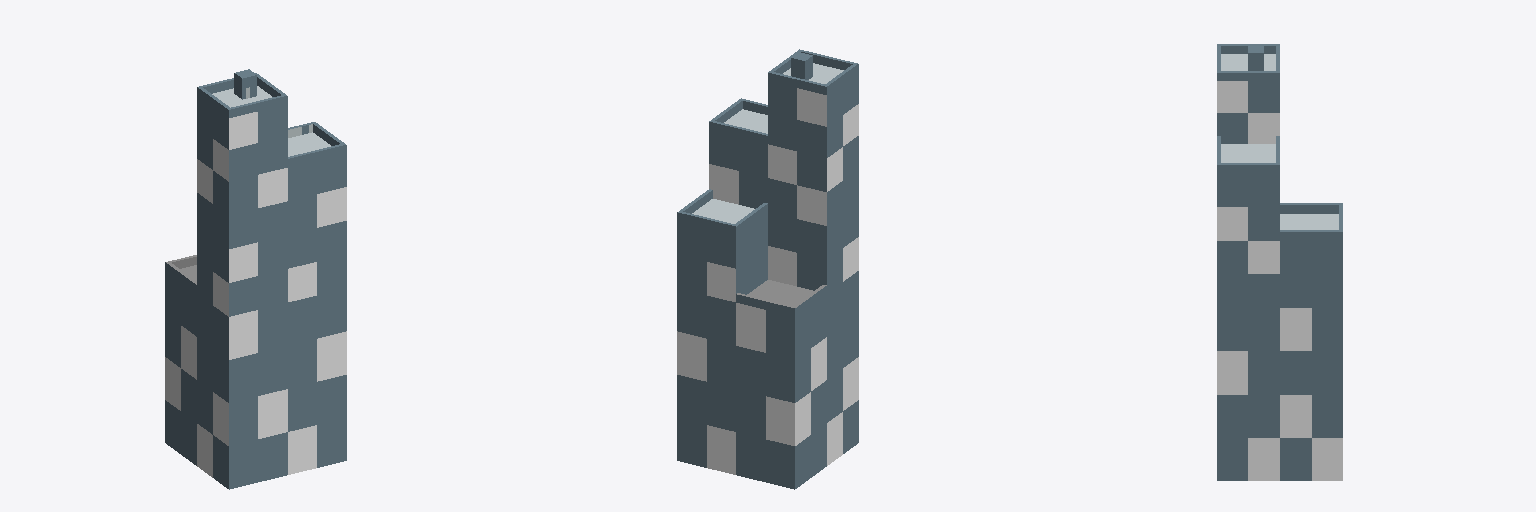
The model's file is model-triangulated.obj.
3 renders of one model, left to right at view 1: azimuth 30°, elevation 25°; view 2: azimuth 150°, elevation 25°; view 3: azimuth 270°, elevation 25°, orthographic.
Visible parts, largest first — view 1: group[number redacted]; view 2: group[number redacted]; view 3: group[number redacted].
Part boxes in pixels (x1,y1,x2,y2): group[number redacted]: (165,69,346,489); group[number redacted]: (677,49,858,489); group[number redacted]: (1217,44,1342,480).
Bounding box in the file's own units: 0.2916 × 0.9288 × 0.2719.